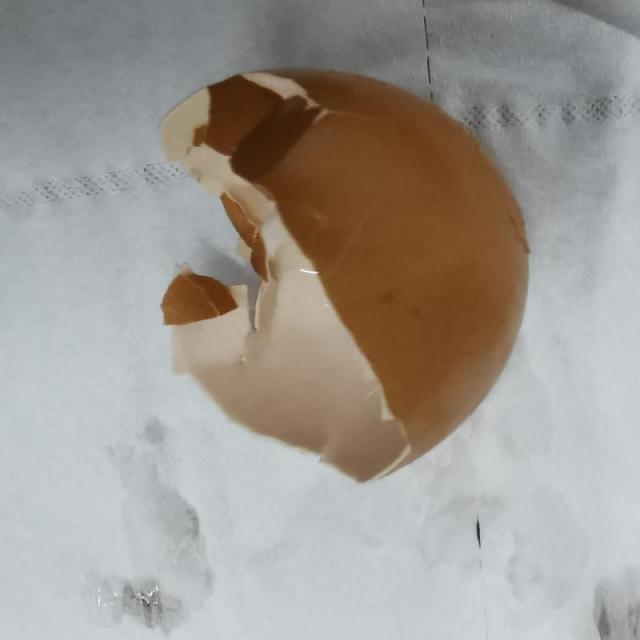egg shell: (154, 78, 539, 482)
